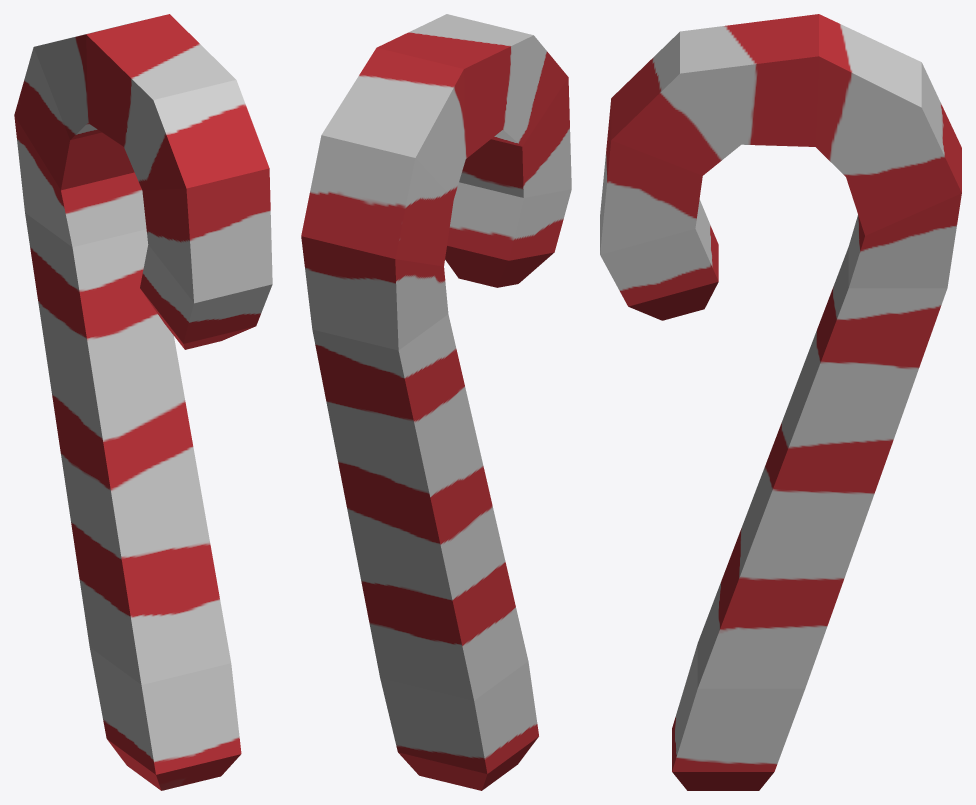
The model's file is candycanetexture.fbx.
3 views of the same model, side by side, from view 1: azimuth 30°, elevation 25°; view 2: azimuth 150°, elevation 25°; view 3: azimuth 270°, elevation 25° (orthographic). The views are drawn at different scales.
Visible parts, largest first — view 1: candycane; view 2: candycane; view 3: candycane.
Part boxes in pixels (box(x1,y1,x2,y2)): candycane: box(14, 14, 272, 790); candycane: box(301, 14, 571, 790); candycane: box(600, 14, 961, 790).
Bounding box in the file's own units: 54.98 × 417 × 185.
Materials: 1 (1 with a texture image).
